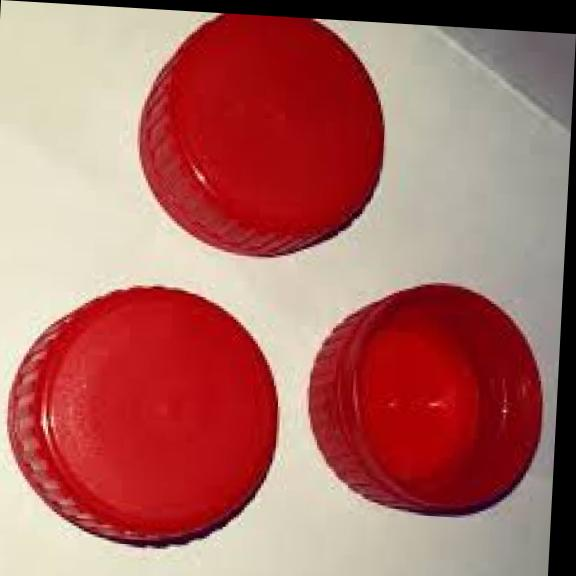Plastik: (3, 284, 279, 549), (135, 13, 384, 260), (305, 282, 544, 519)
